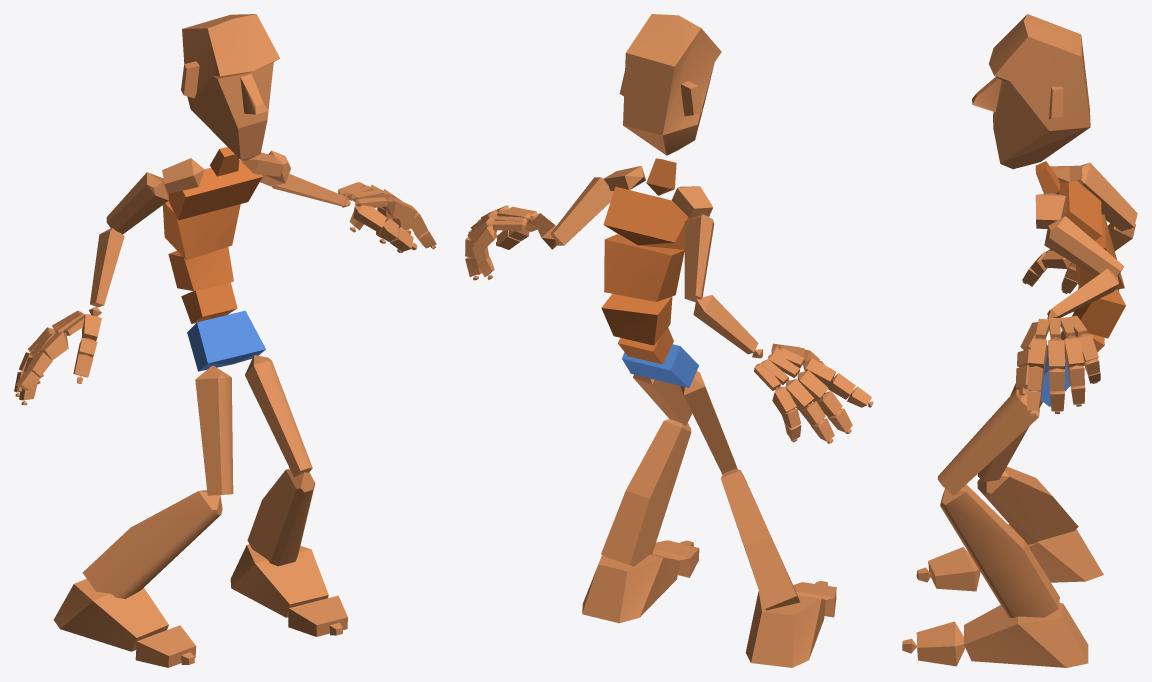
3 views of the same model, side by side, from view 1: azimuth 30°, elevation 25°; view 2: azimuth 150°, elevation 25°; view 3: azimuth 270°, elevation 25° (orthographic). The views are drawn at different scales.
Parts seen in each view (by area): view 1: BOPED_Head, BOPED_R_leg, BOPED_R_foot, BOPED_R_foot01, BOPED_L_leg, BOPED_R_legup, BOPED_L_legup, Bone01, Bone04, Bone05, Bone03, BOPED_R_arm_upper (+8 smaller); view 2: BOPED_Head, BOPED_L_leg, BOPED_R_foot01, BOPED_R_foot, BOPED_R_leg, Bone04, Bone05, Bone03, BOPED_R_arm_upper, BOPED_R_legup, BOPED_L_arm_upper, Bone01 (+8 smaller); view 3: BOPED_Head, BOPED_L_leg, BOPED_R_foot01, BOPED_R_leg, BOPED_L_legup, BOPED_R_foot, BOPED_L_arm_upper, BOPED_R_foot_toe01, BOPED_R_arm_upper, BOPED_R_foot_toe04, Bone05, Bone03 (+15 smaller).
Boxes of the visible parts, <box> form: BOPED_Head: <box>181,14,280,160</box>; BOPED_R_leg: <box>82,490,222,598</box>; BOPED_R_foot: <box>53,578,168,651</box>; BOPED_R_foot01: <box>230,544,328,617</box>; BOPED_L_leg: <box>247,468,315,566</box>; BOPED_R_legup: <box>195,365,233,495</box>; BOPED_L_legup: <box>245,355,312,477</box>; Bone01: <box>187,310,265,371</box>; Bone04: <box>162,201,240,260</box>; Bone05: <box>168,160,262,220</box>; Bone03: <box>168,247,233,291</box>; BOPED_R_arm_upper: <box>106,172,168,234</box>; BOPED_Head: <box>619,14,721,155</box>; BOPED_L_leg: <box>601,419,691,566</box>; BOPED_R_foot01: <box>582,554,680,623</box>; BOPED_R_foot: <box>745,591,825,667</box>; BOPED_R_leg: <box>721,468,800,610</box>; Bone04: <box>604,234,684,301</box>; Bone05: <box>603,186,691,249</box>; Bone03: <box>601,293,672,345</box>; BOPED_R_arm_upper: <box>684,214,714,302</box>; BOPED_R_legup: <box>680,371,737,474</box>; BOPED_L_arm_upper: <box>550,177,613,245</box>; Bone01: <box>622,344,698,387</box>; BOPED_Head: <box>972,14,1090,169</box>; BOPED_L_leg: <box>940,484,1059,617</box>; BOPED_R_foot01: <box>964,603,1088,667</box>; BOPED_R_leg: <box>977,466,1078,544</box>; BOPED_L_legup: <box>937,389,1039,495</box>; BOPED_R_foot: <box>1008,524,1103,582</box>; BOPED_L_arm_upper: <box>1044,216,1124,276</box>; BOPED_R_foot_toe01: <box>928,547,980,591</box>; BOPED_R_arm_upper: <box>1077,162,1137,231</box>; BOPED_R_foot_toe04: <box>916,621,965,666</box>; Bone05: <box>1058,180,1102,240</box>; Bone03: <box>1073,287,1125,338</box>.
Bounding box in the file's own units: 130 × 178 × 62.44.
